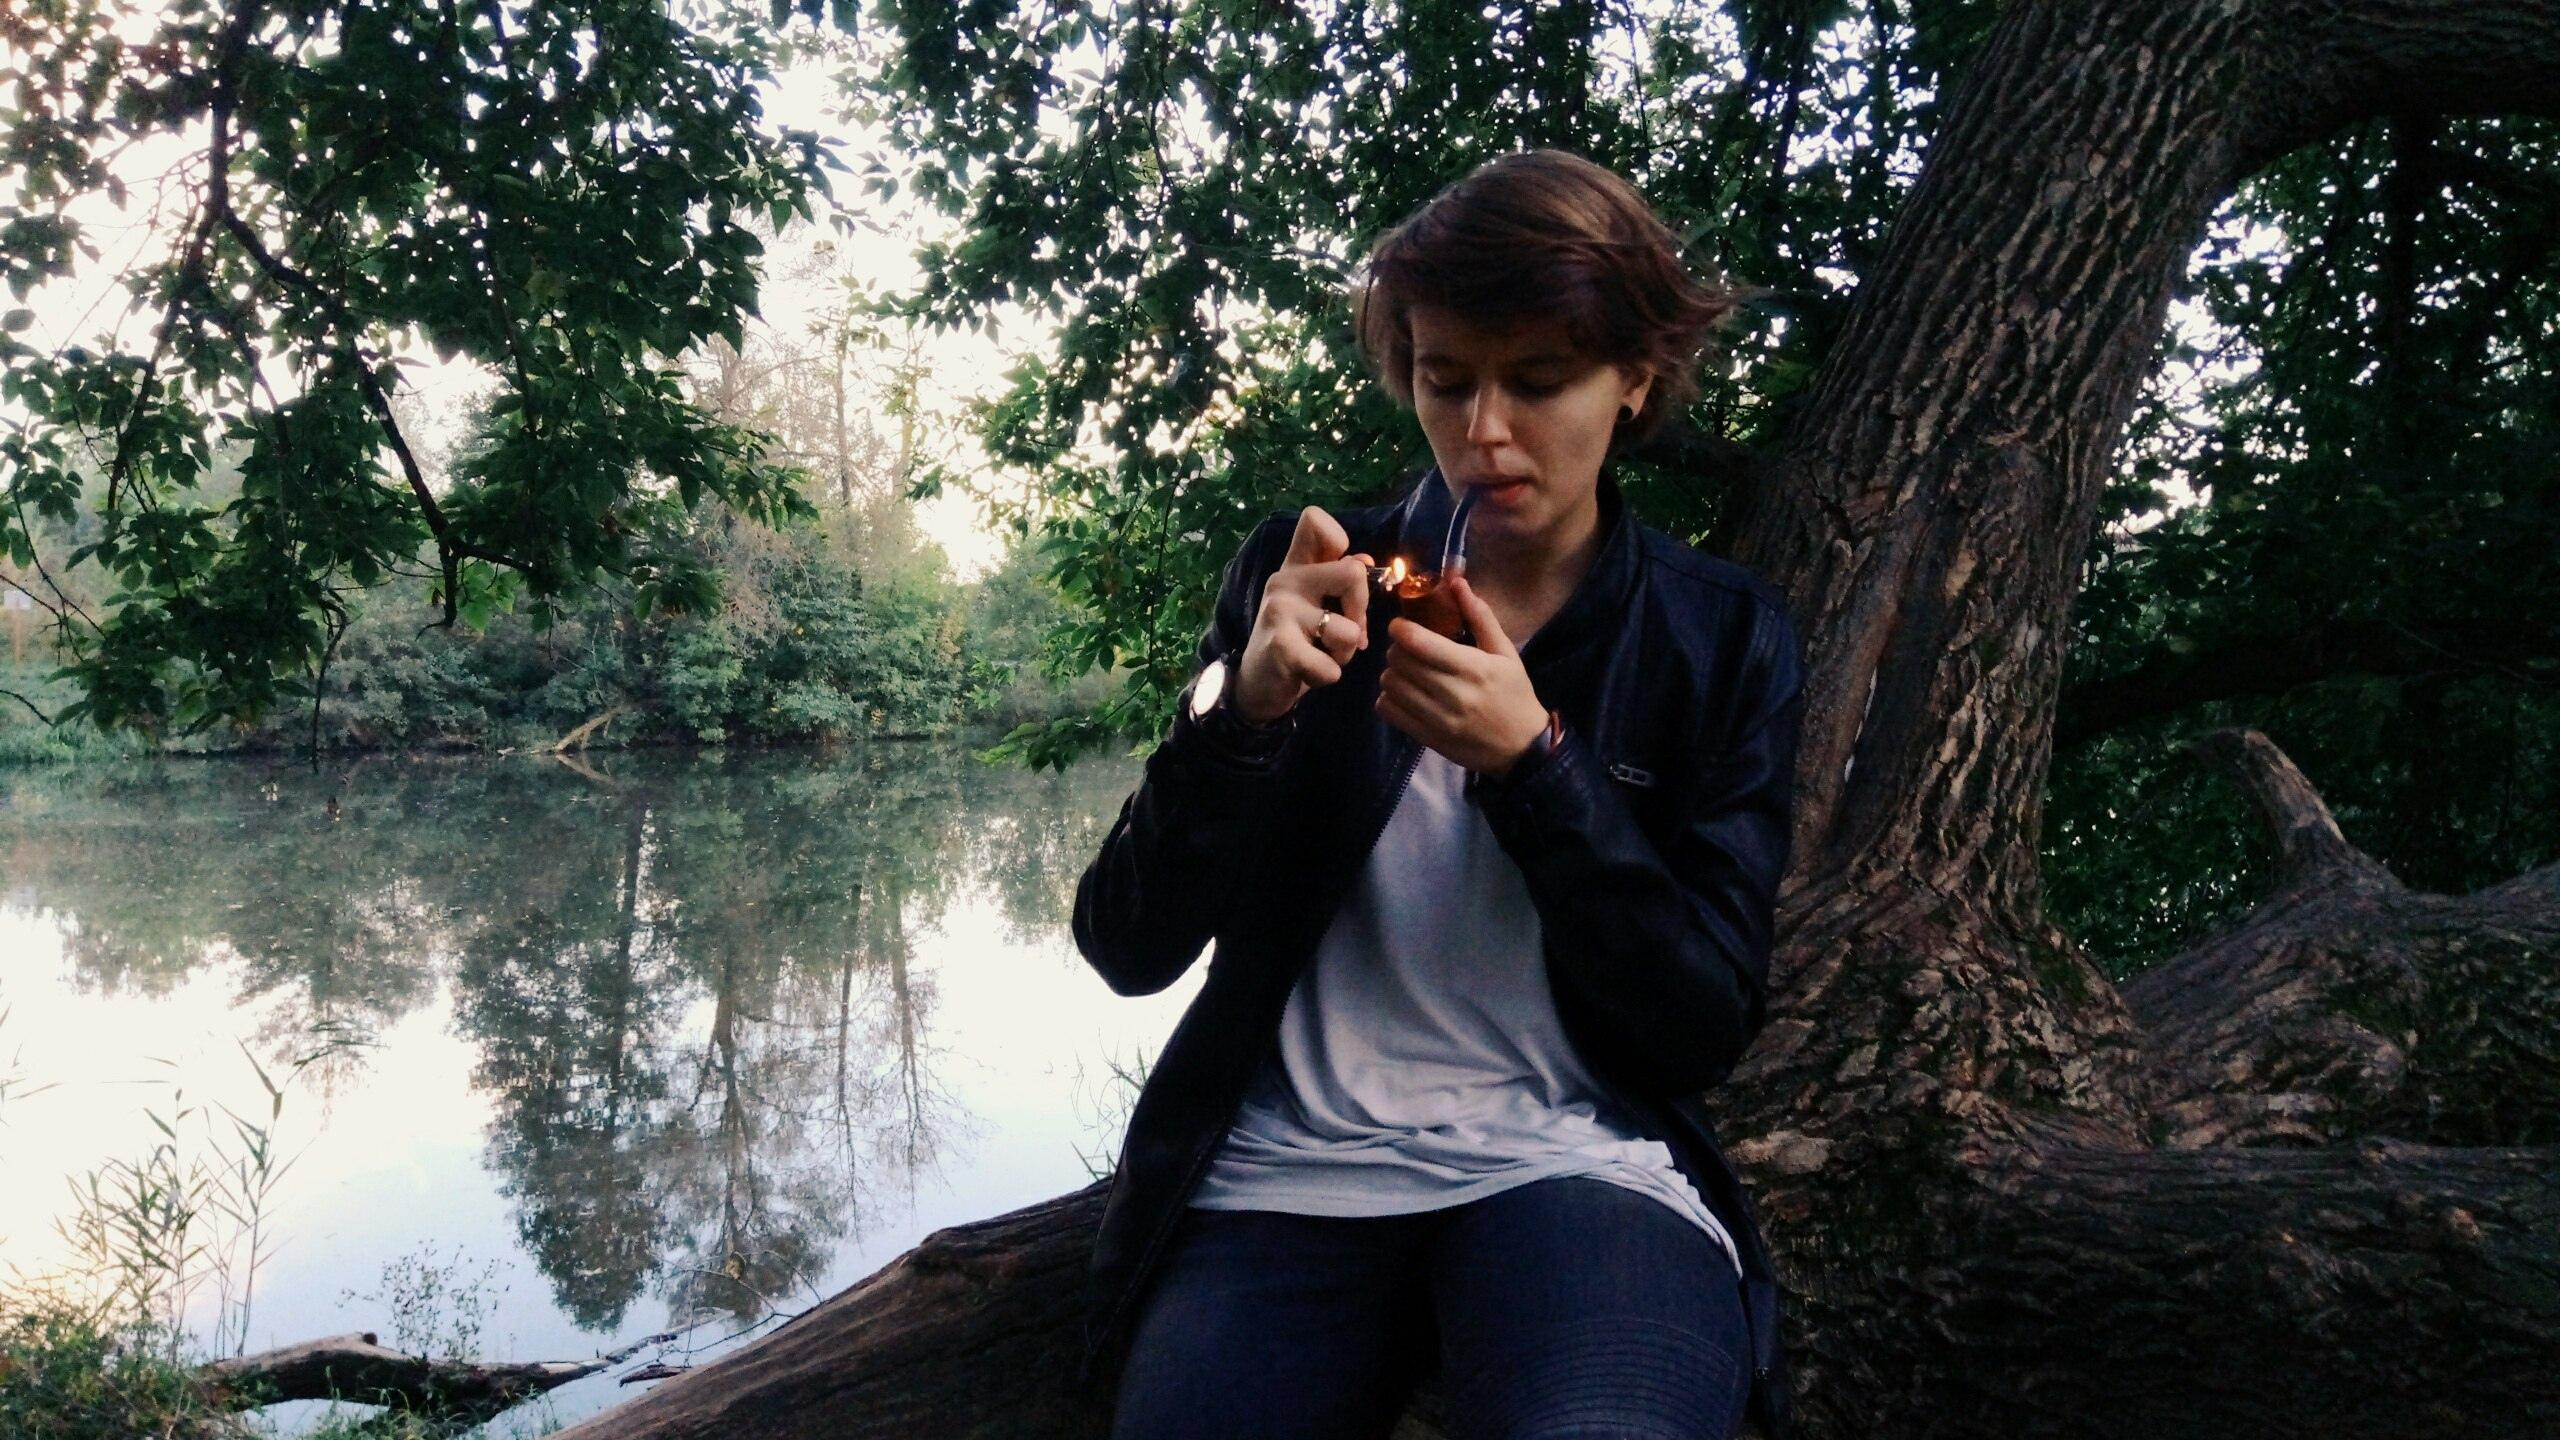trubka: (1398, 480, 1493, 638)
